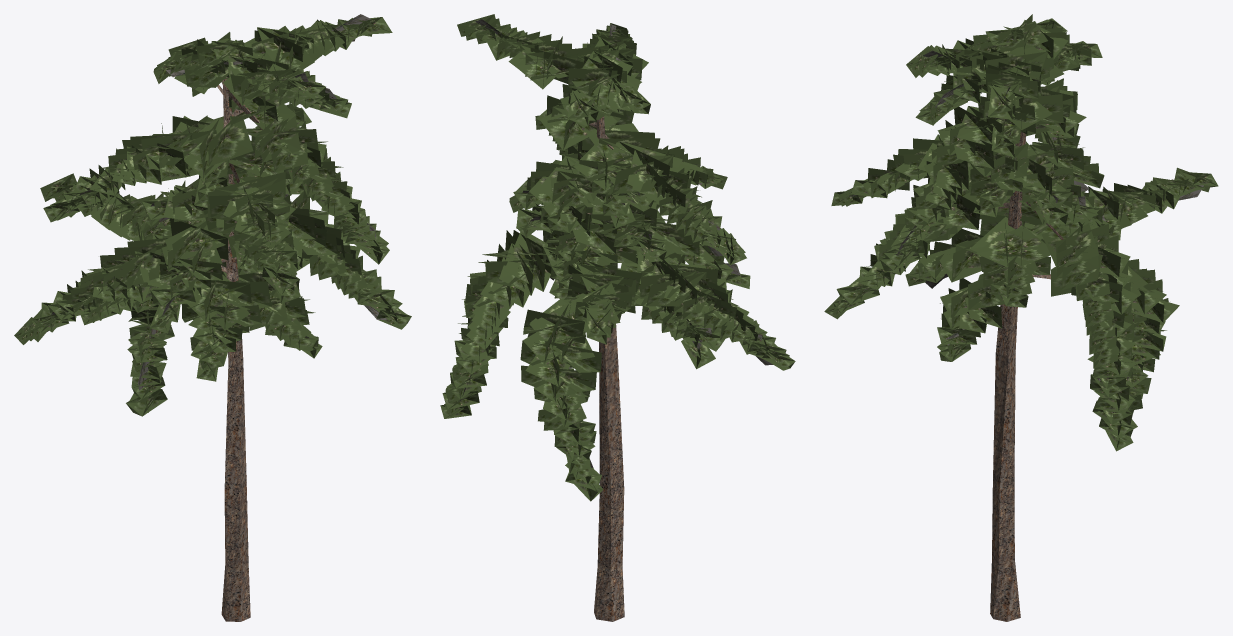
3 renders of one model, left to right at view 1: azimuth 30°, elevation 25°; view 2: azimuth 150°, elevation 25°; view 3: azimuth 270°, elevation 25°, orthographic. The views are drawn at different scales.
Parts seen in each view (by area): view 1: A01937; view 2: A01937; view 3: A01937.
Boxes of the visible parts, x1,y1,x2,y2 form: A01937: (14, 14, 411, 621); A01937: (440, 14, 795, 621); A01937: (824, 14, 1218, 621).
Bounding box in the file's own units: 19.35 × 29.95 × 18.09.
